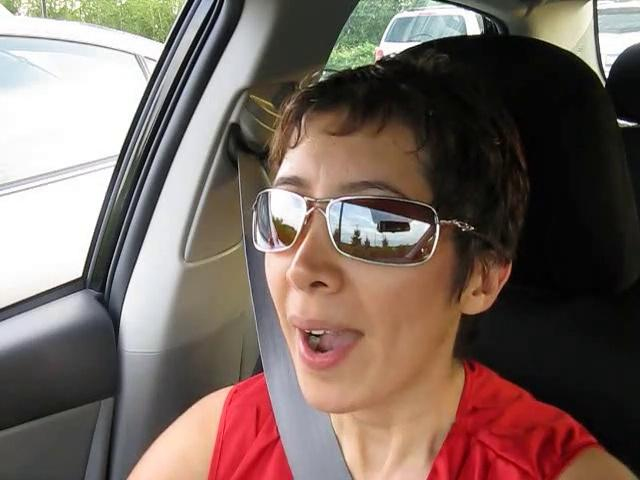yawn: (272, 309, 379, 377)
